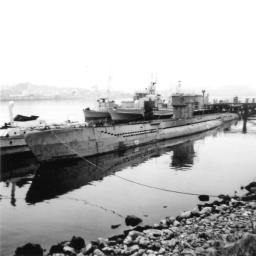submarine: (34, 90, 247, 165)
